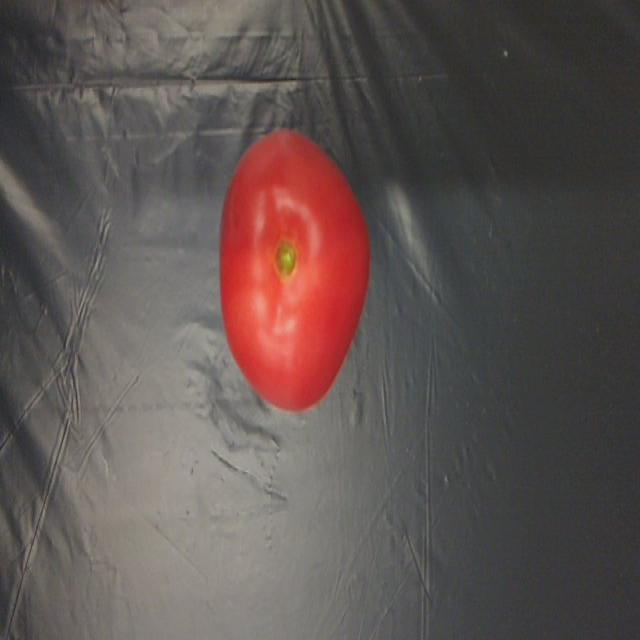kirmizi: (197, 116, 379, 415)
